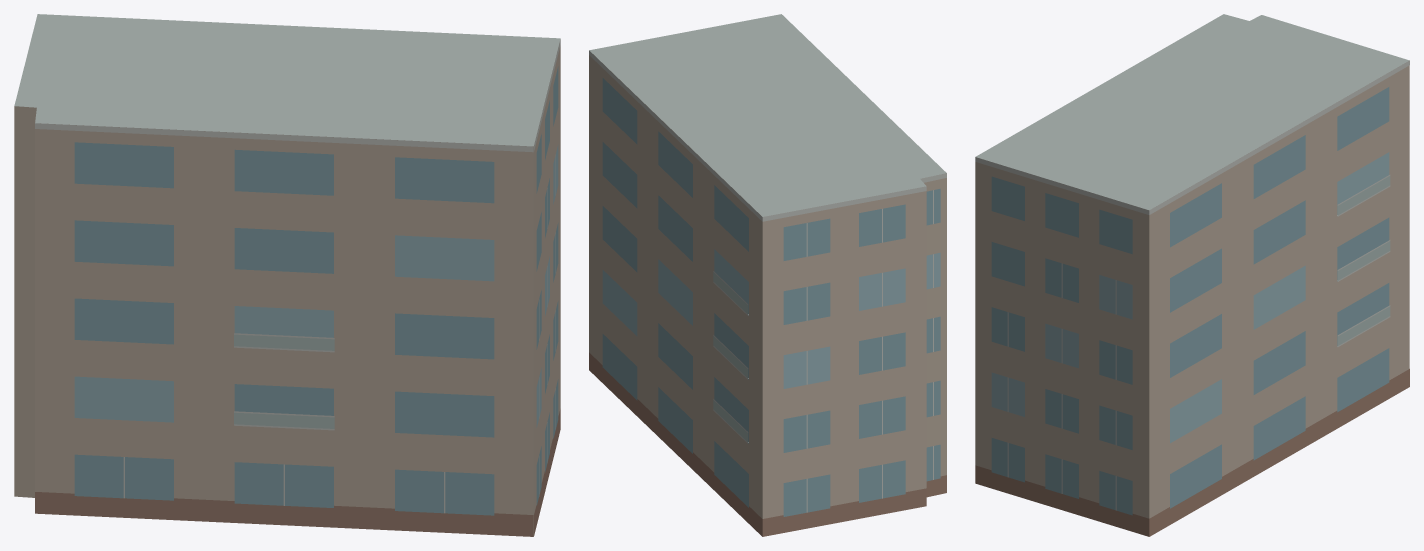
Rendered from survey-upis-32828898.glb.
The picture shows the model from 3 angles, left to right: view 1: azimuth 30°, elevation 25°; view 2: azimuth 150°, elevation 25°; view 3: azimuth 270°, elevation 25°; orthographic projection. The views are drawn at different scales.
Visible parts, largest first — view 1: survey-upis-32828898.tmp; view 2: survey-upis-32828898.tmp; view 3: survey-upis-32828898.tmp.
Boxes of the visible parts, x1,y1,x2,y2 form: survey-upis-32828898.tmp: (14, 14, 560, 536); survey-upis-32828898.tmp: (589, 14, 946, 536); survey-upis-32828898.tmp: (975, 14, 1409, 536).
Size of the model in its own units: 21.29 by 16.5 by 19.91.
